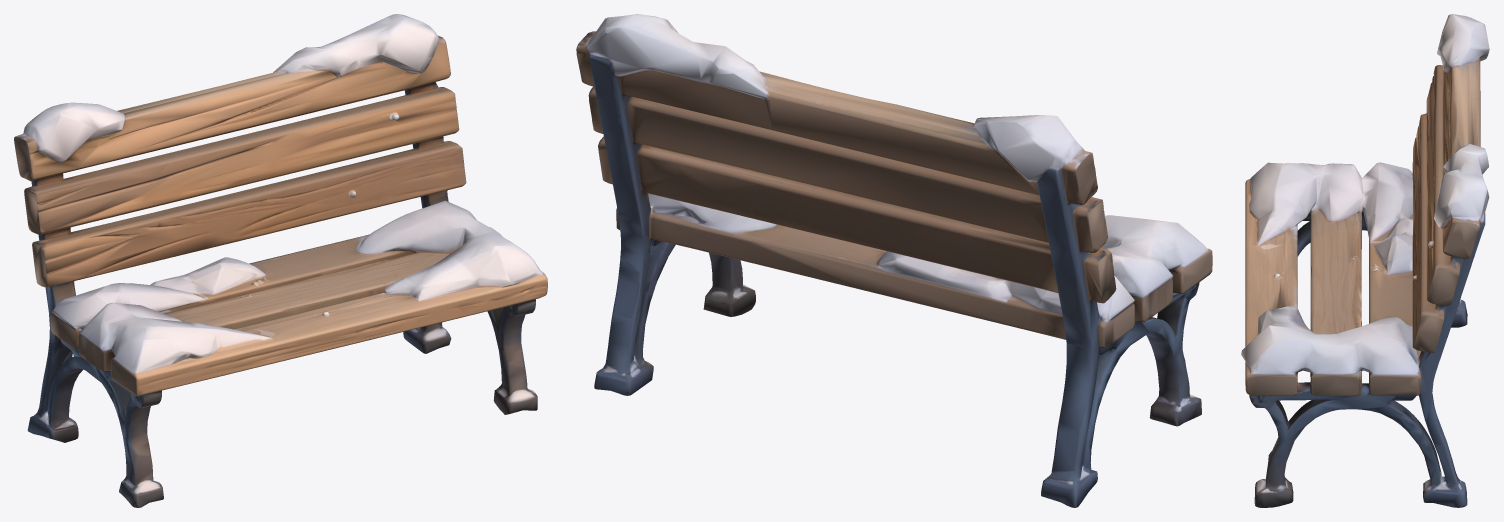
The model's file is bench.glb.
The picture shows the model from 3 angles, left to right: view 1: azimuth 30°, elevation 25°; view 2: azimuth 150°, elevation 25°; view 3: azimuth 270°, elevation 25°; orthographic projection. The views are drawn at different scales.
Parts seen in each view (by area): view 1: node_0; view 2: node_0; view 3: node_0.
Boxes of the visible parts, x1,y1,x2,y2 form: node_0: (14, 14, 547, 507); node_0: (576, 14, 1212, 507); node_0: (1241, 14, 1489, 507).
Bounding box in the file's own units: 0.93 × 0.6812 × 0.4851.
1 material, 1 textured.
